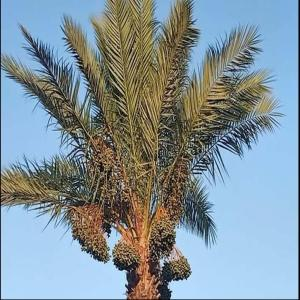palm tree: (0, 0, 284, 299)
